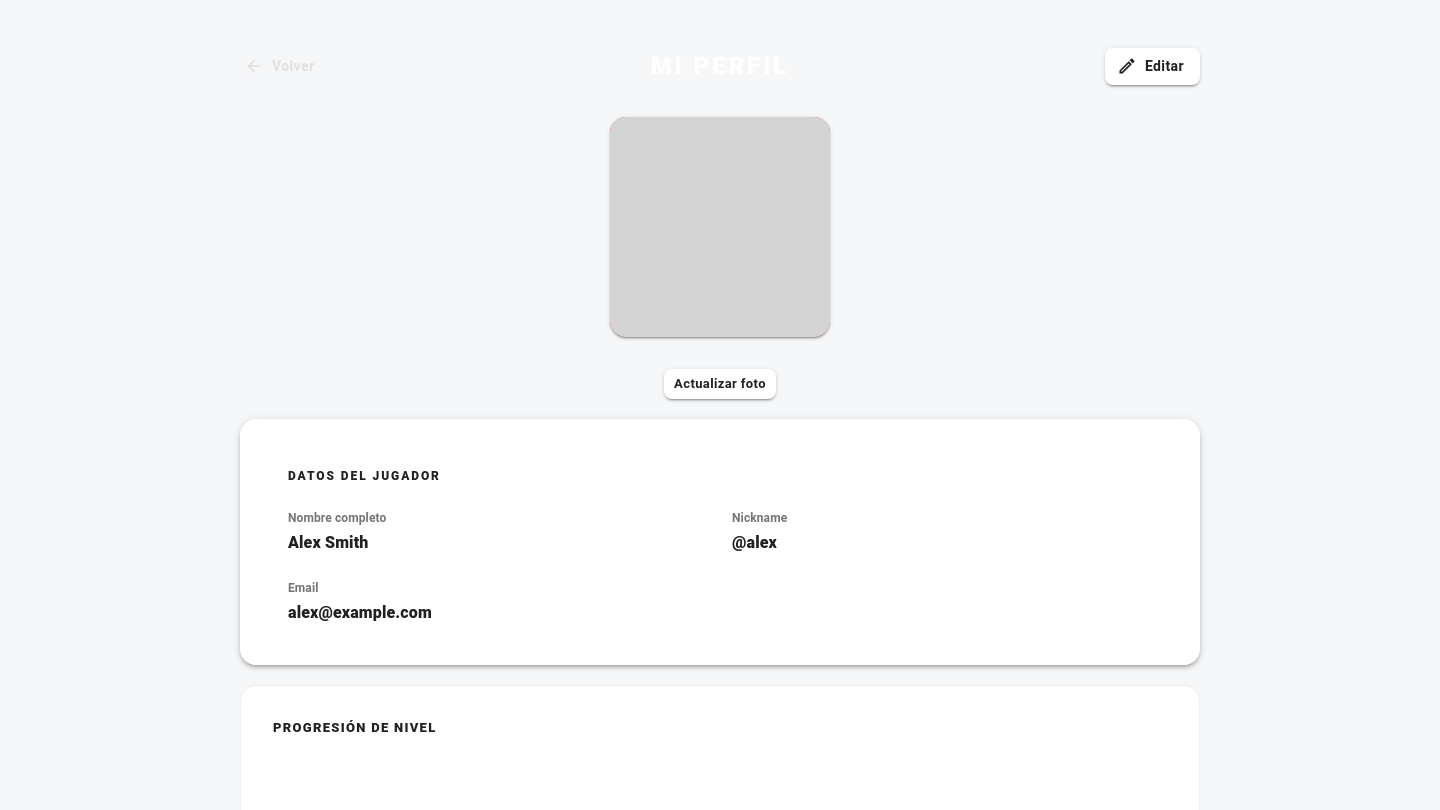
Test: UserProfilePage › updates the profile after editing and confirming changes
Click the button "Editar". click: [1152, 66]
box: x1=1105 y1=48 x2=1200 y2=84
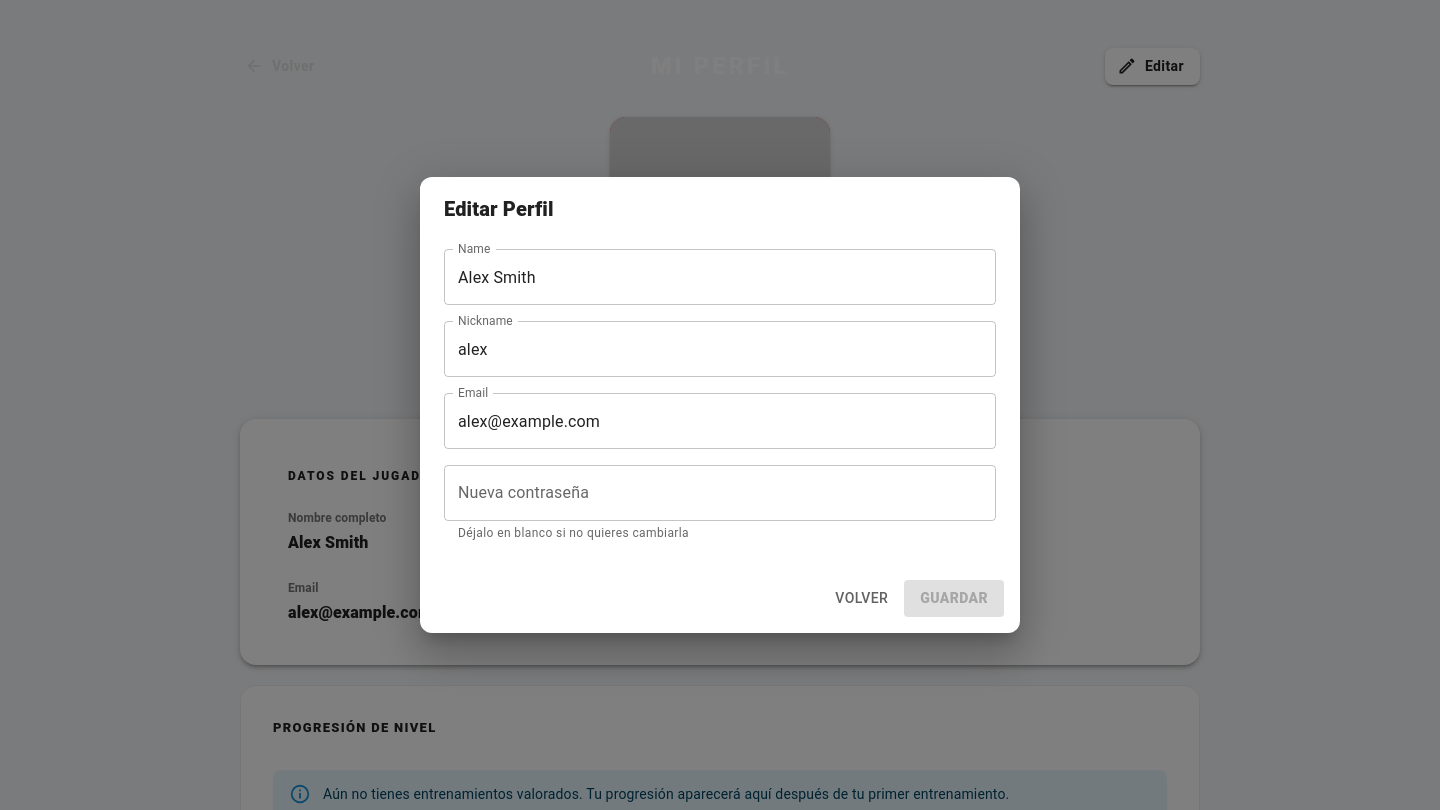
Replace the text in the field labelled "Name" with "Alex Updated". click: [720, 277]
box: x1=444 y1=249 x2=996 y2=305
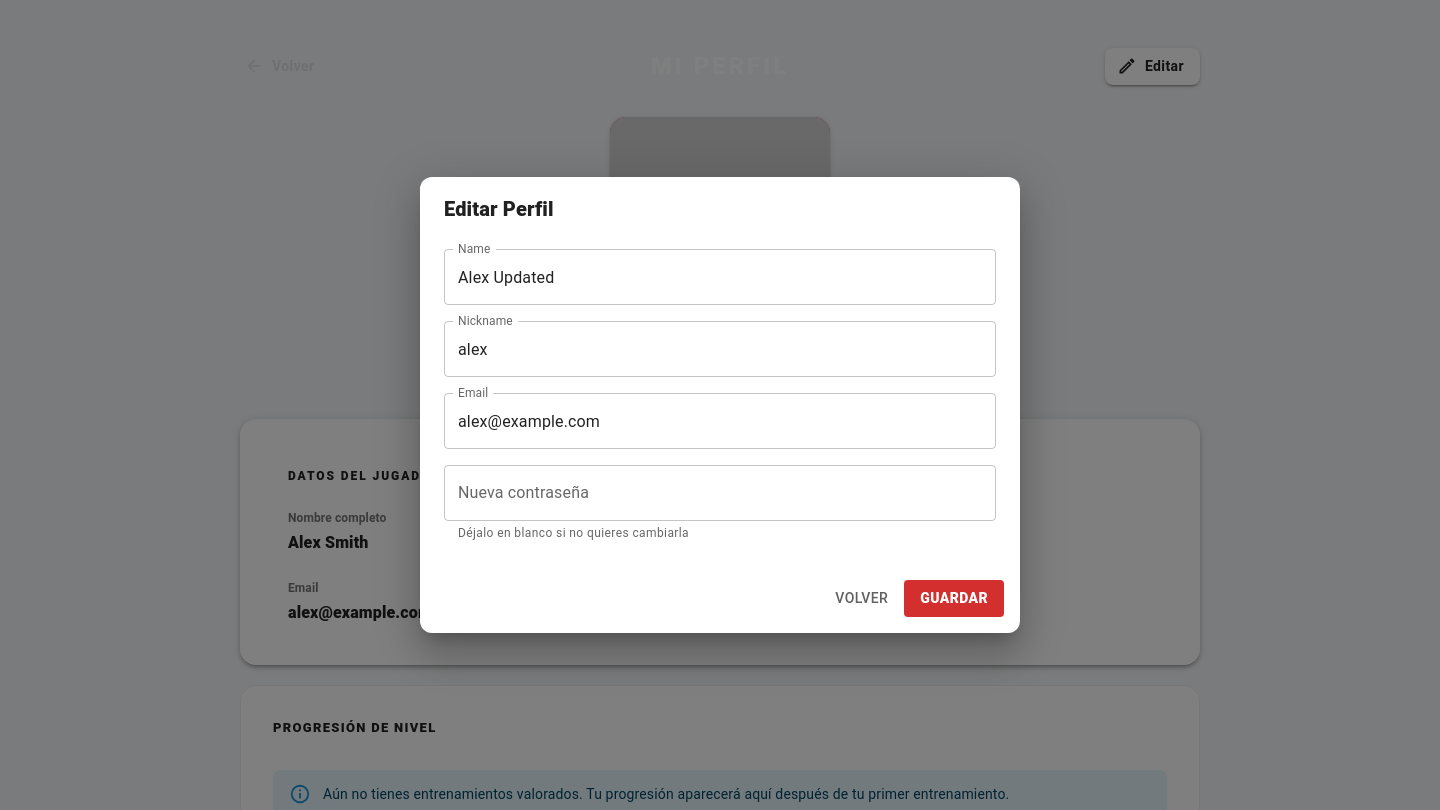
Now the button "GUARDAR" is enabled
Click the button "GUARDAR". click: [954, 598]
box: x1=904 y1=580 x2=1004 y2=617
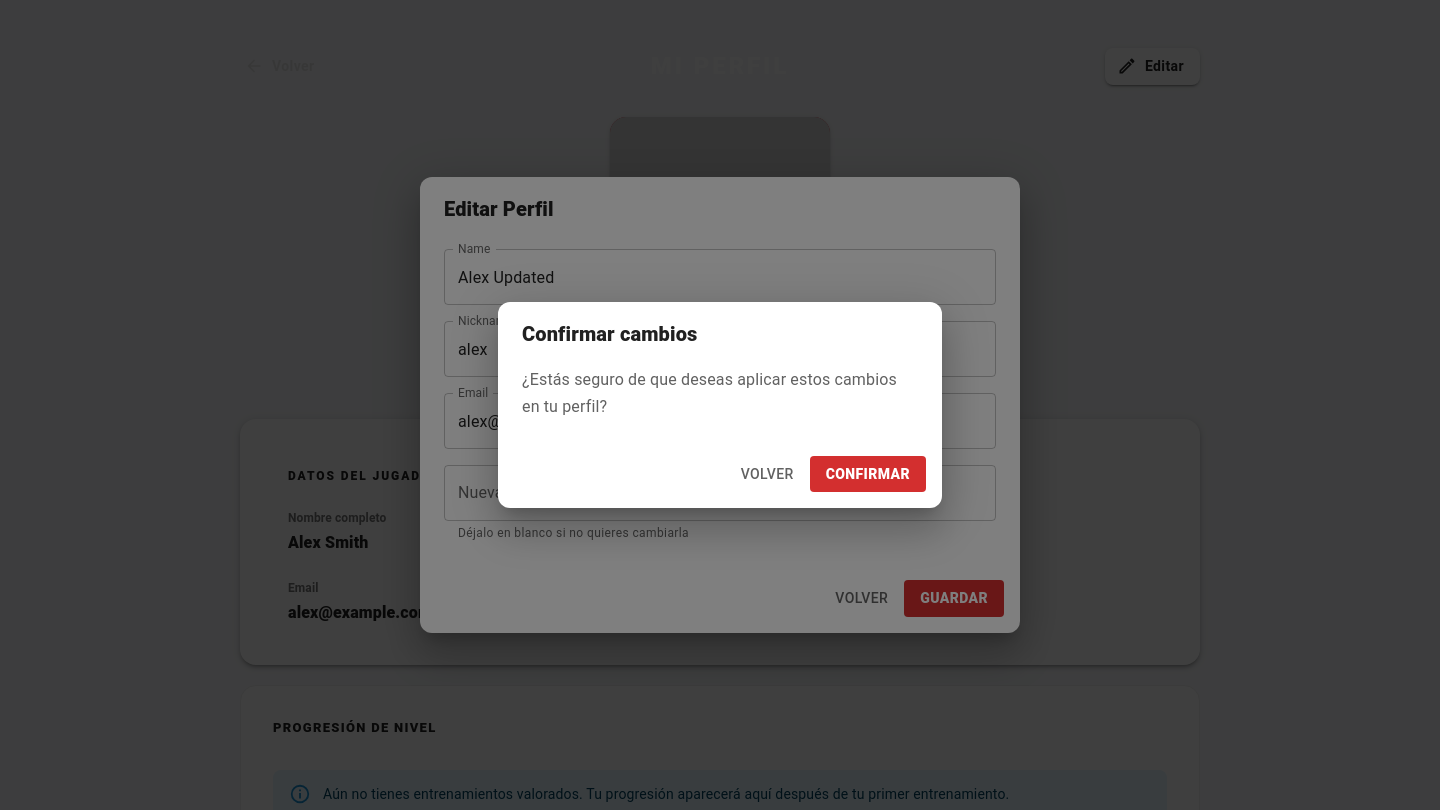
Click the button "CONFIRMAR". click: [868, 474]
box: x1=810 y1=456 x2=926 y2=492
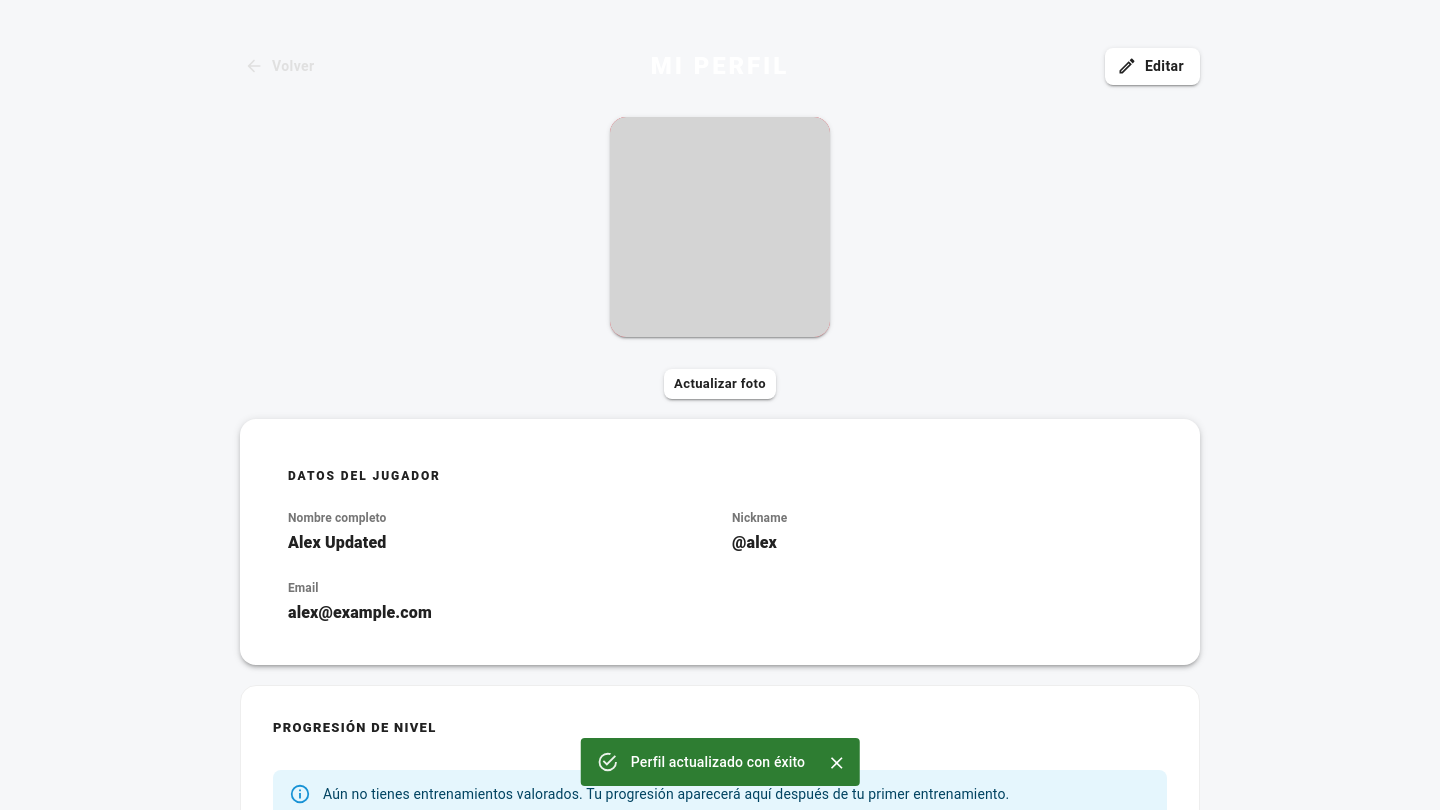
Now the text "Perfil actualizado con éxito" is shown, box x1=631 y1=754 x2=805 y2=770
